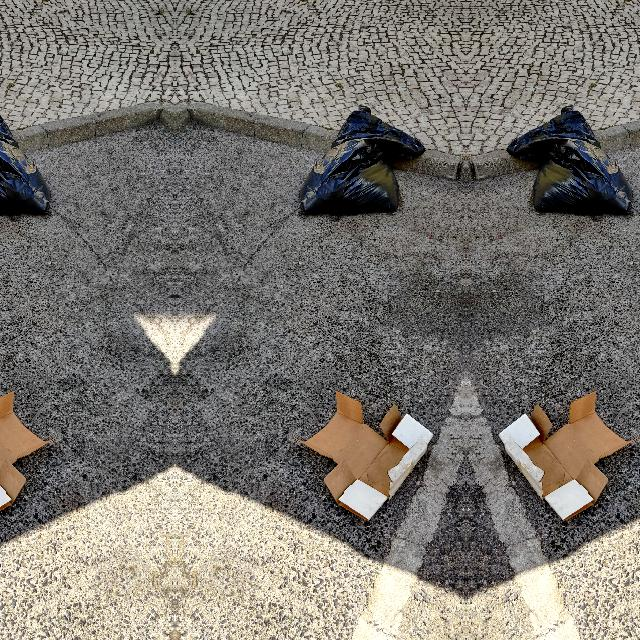Cardboard: (291, 382, 443, 528), (488, 382, 640, 528), (0, 382, 57, 528)
Plastic: (287, 98, 437, 230), (494, 98, 640, 229), (0, 98, 61, 229)
